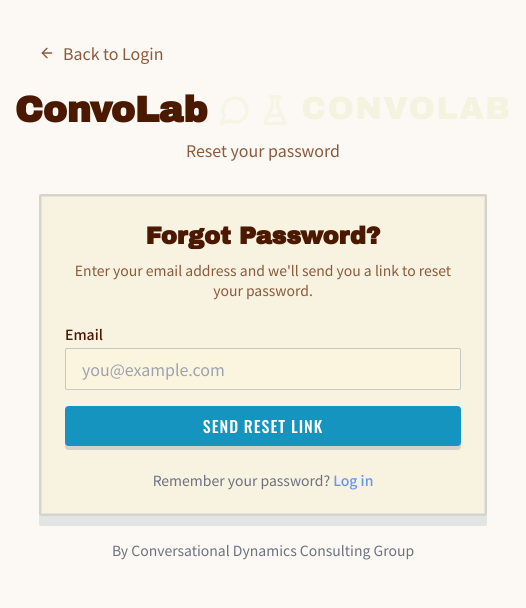
Test: ForgotPasswordPage › Form Submission › should show error message on API failure
This screenshot has width=526, height=608.
In the field labelled "Email": (263, 368) [65, 348, 461, 390], type "test@example.com"
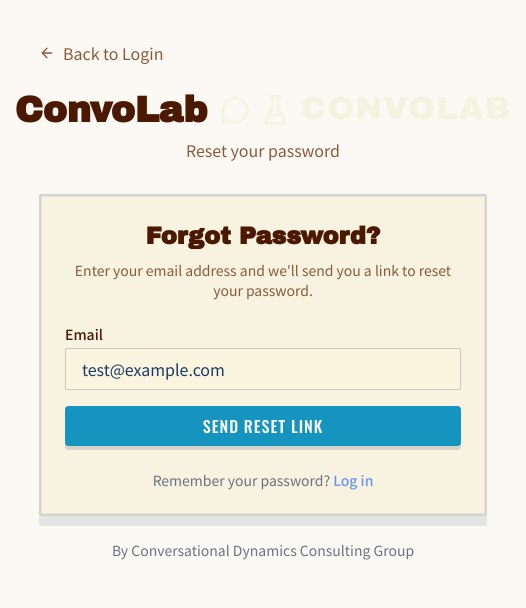
Click the button "Send Reset Link": (263, 426) [65, 406, 461, 446]
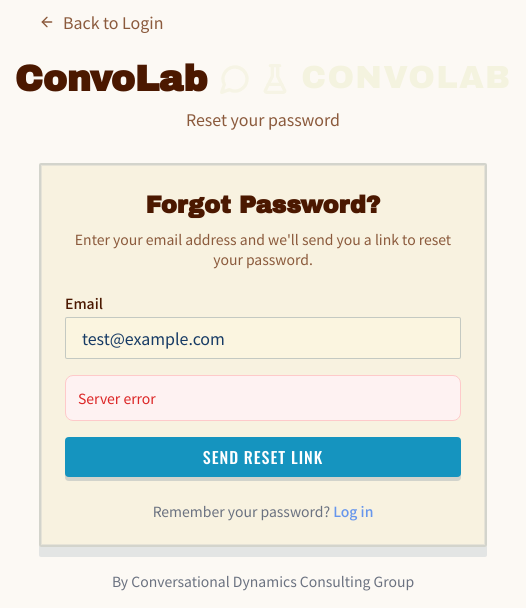
Expected: the text "Server error" is shown, [65, 374, 461, 420]
